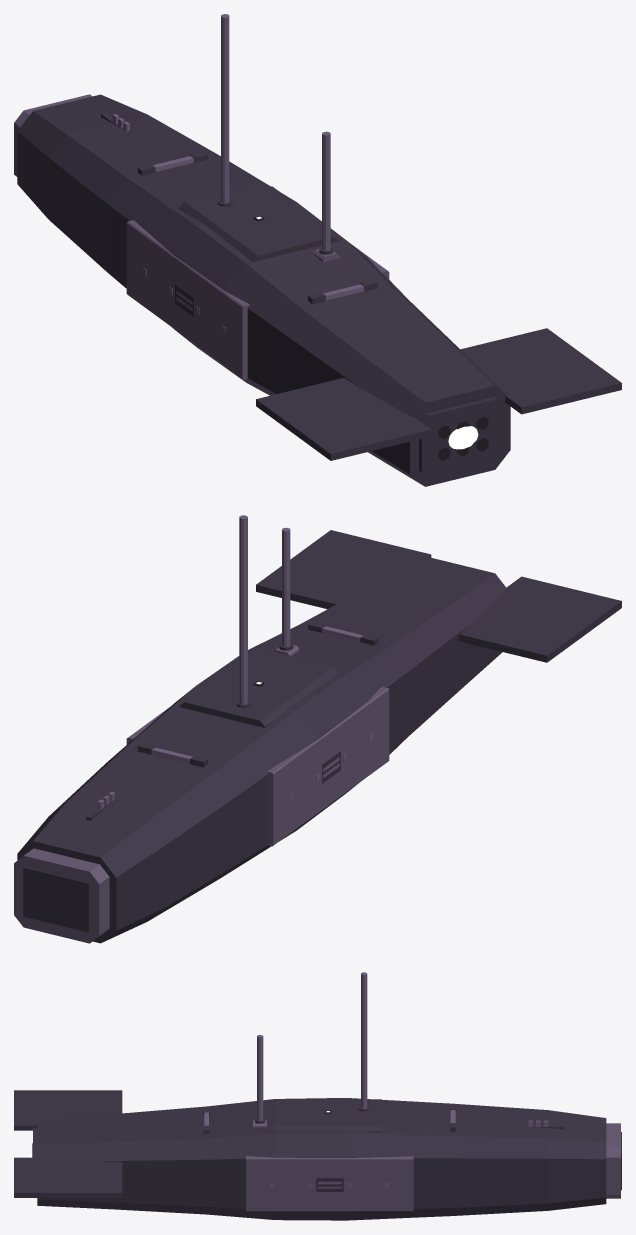
3 views of the same model, one above another, from view 1: azimuth 30°, elevation 25°; view 2: azimuth 150°, elevation 25°; view 3: azimuth 270°, elevation 25° (orthographic). The views are drawn at different scales.
Visible parts, largest first — view 1: RIMWARD_HULL; view 2: RIMWARD_HULL; view 3: RIMWARD_HULL.
Boxes of the visible parts, bbox=[...] form: RIMWARD_HULL: bbox=[14, 14, 621, 486]; RIMWARD_HULL: bbox=[14, 515, 621, 943]; RIMWARD_HULL: bbox=[14, 972, 621, 1220].
Size of the model in its own units: 6.96 by 7.23 by 17.4.
